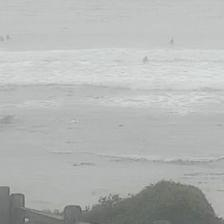surfer: (142, 55, 148, 63), (5, 34, 11, 40), (169, 38, 174, 44), (1, 35, 5, 42)
